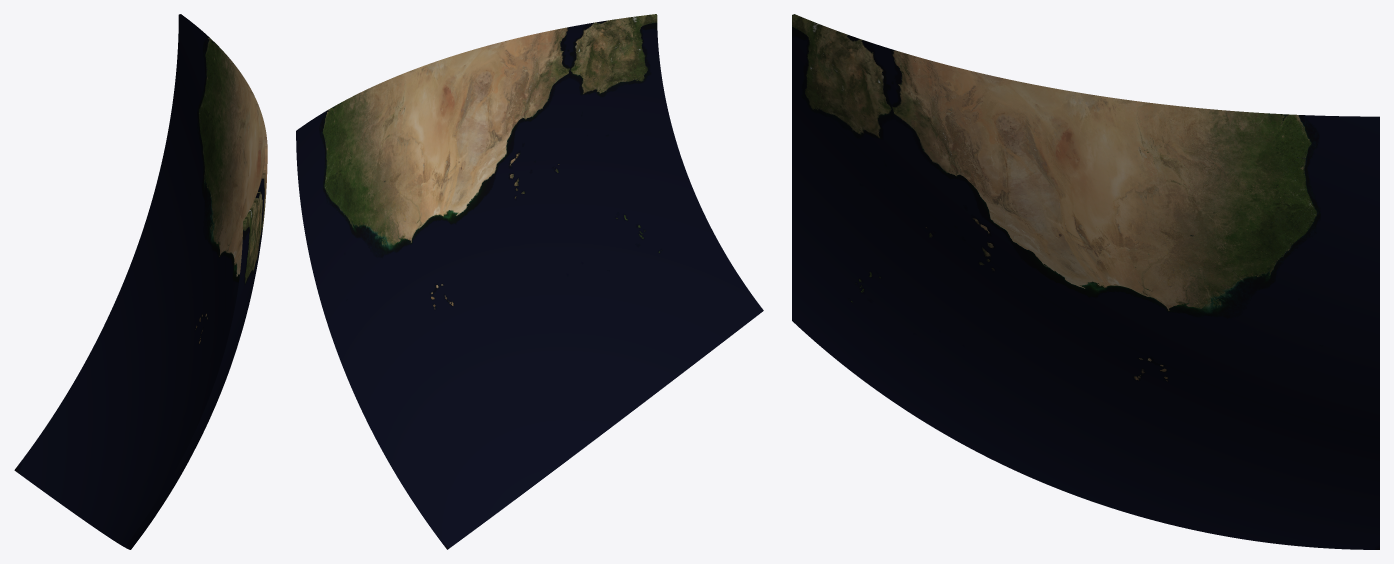
3 views of the same model, side by side, from view 1: azimuth 30°, elevation 25°; view 2: azimuth 150°, elevation 25°; view 3: azimuth 270°, elevation 25° (orthographic). The views are drawn at different scales.
Parts seen in each view (by area): view 1: DefaultName.007, DefaultName.005, DefaultName.001, DefaultName.003; view 2: DefaultName.001, DefaultName.007, DefaultName.003, DefaultName.005; view 3: DefaultName.005, DefaultName.003, DefaultName.007, DefaultName.001.
Part boxes in pixels (<box>): DefaultName.007: <box>14,250,221,536</box>; DefaultName.005: <box>136,14,261,330</box>; DefaultName.001: <box>107,336,227,549</box>; DefaultName.003: <box>213,115,267,388</box>; DefaultName.001: <box>485,167,763,443</box>; DefaultName.007: <box>335,257,588,549</box>; DefaultName.003: <box>449,14,684,257</box>; DefaultName.005: <box>296,57,485,347</box>; DefaultName.005: <box>1062,90,1379,380</box>; DefaultName.003: <box>792,14,1062,333</box>; DefaultName.007: <box>1062,334,1379,549</box>; DefaultName.001: <box>792,201,1061,490</box>.
Bounding box in the file's own units: 31962 × 45100 × 44873.
4 materials, 4 textured.
